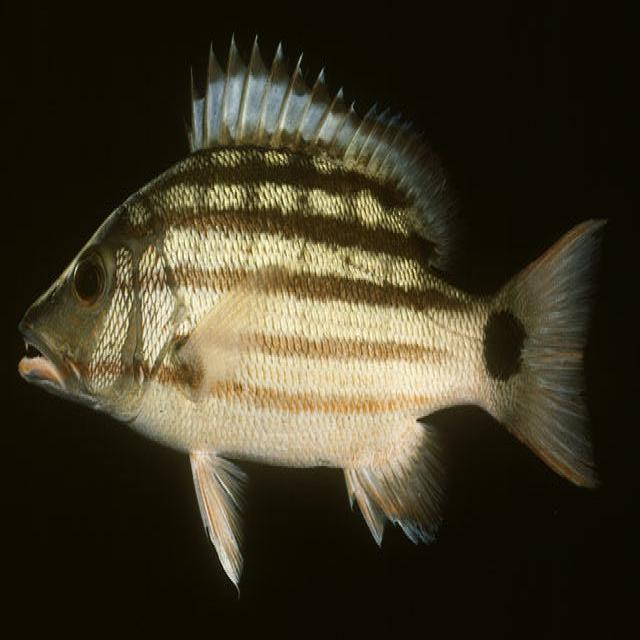ikan: (16, 29, 608, 597)
